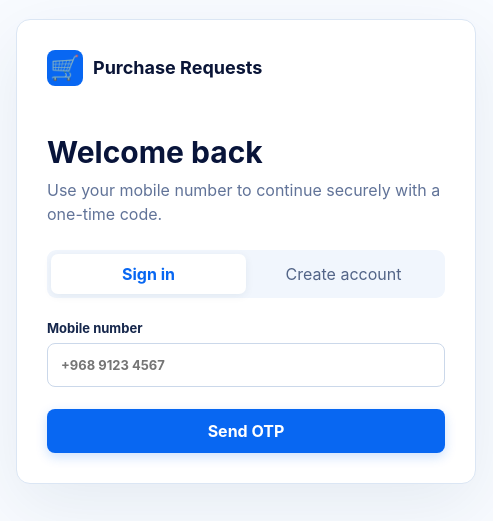
Test case: AuthScreen › verifies a pasted six-digit OTP
The image size is (493, 521).
Type "+96891234567" into the field labelled "Mobile number". click: [246, 364]
box: [47,342,445,386]
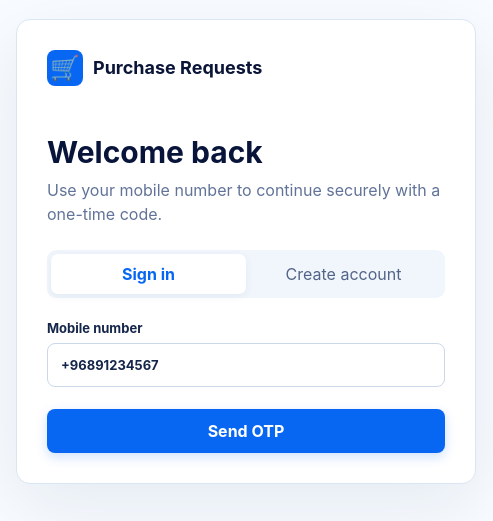
Click the button "Send OTP". click: [246, 430]
box: [47,408,445,452]
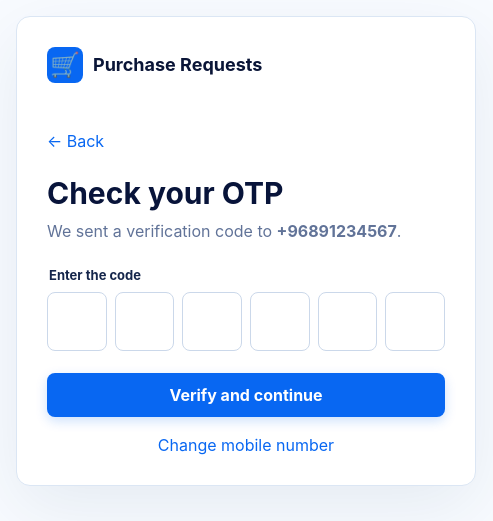
Result: the heading "Check your OTP" is shown at [47,175,284,211]
